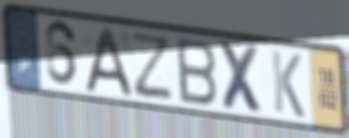6: (44, 18, 80, 91)
A: (82, 25, 135, 99)
B: (173, 35, 219, 108)
K: (269, 47, 307, 121)
X: (216, 38, 268, 118)
Z: (131, 30, 174, 102)
